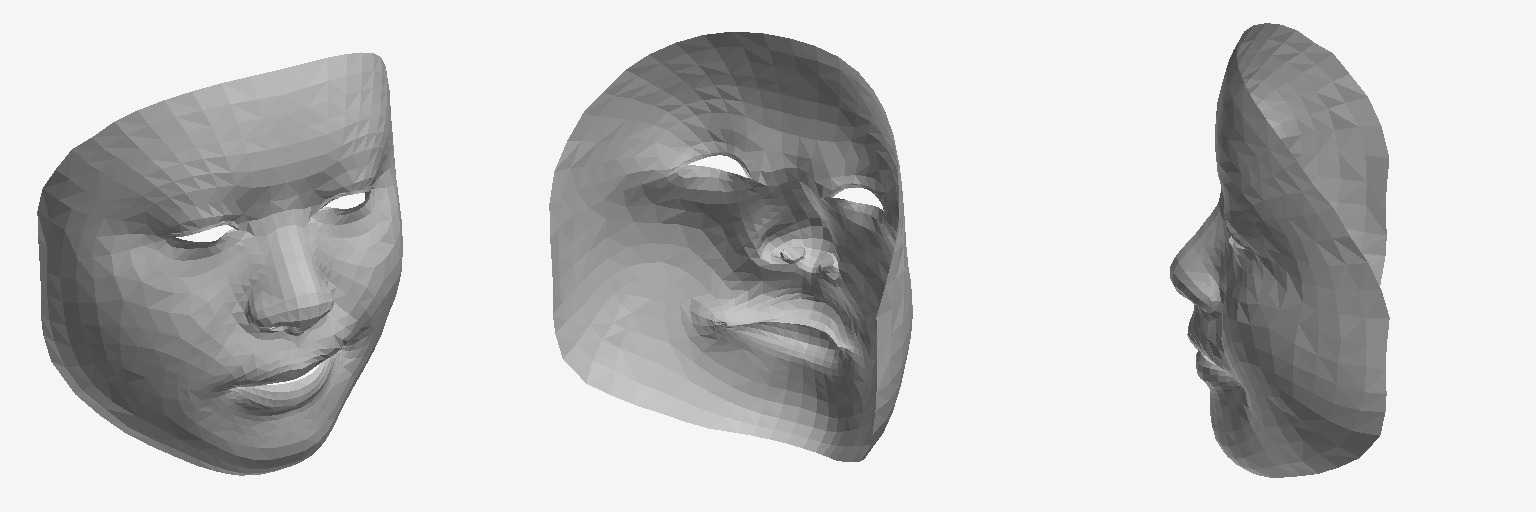
Rendered from mouthDimple_L.obj.
The picture shows the model from 3 angles: view 1: azimuth 30°, elevation 25°; view 2: azimuth 150°, elevation 25°; view 3: azimuth 270°, elevation 25°; orthographic projection.
Parts seen in each view (by area): view 1: default; view 2: default; view 3: default.
Boxes of the visible parts, box(x1,y1,x2,y2) form: default: box(37, 52, 402, 475); default: box(549, 32, 912, 461); default: box(1170, 23, 1389, 477).
Size of the model in its own units: 0.1624 by 0.1848 by 0.0911.